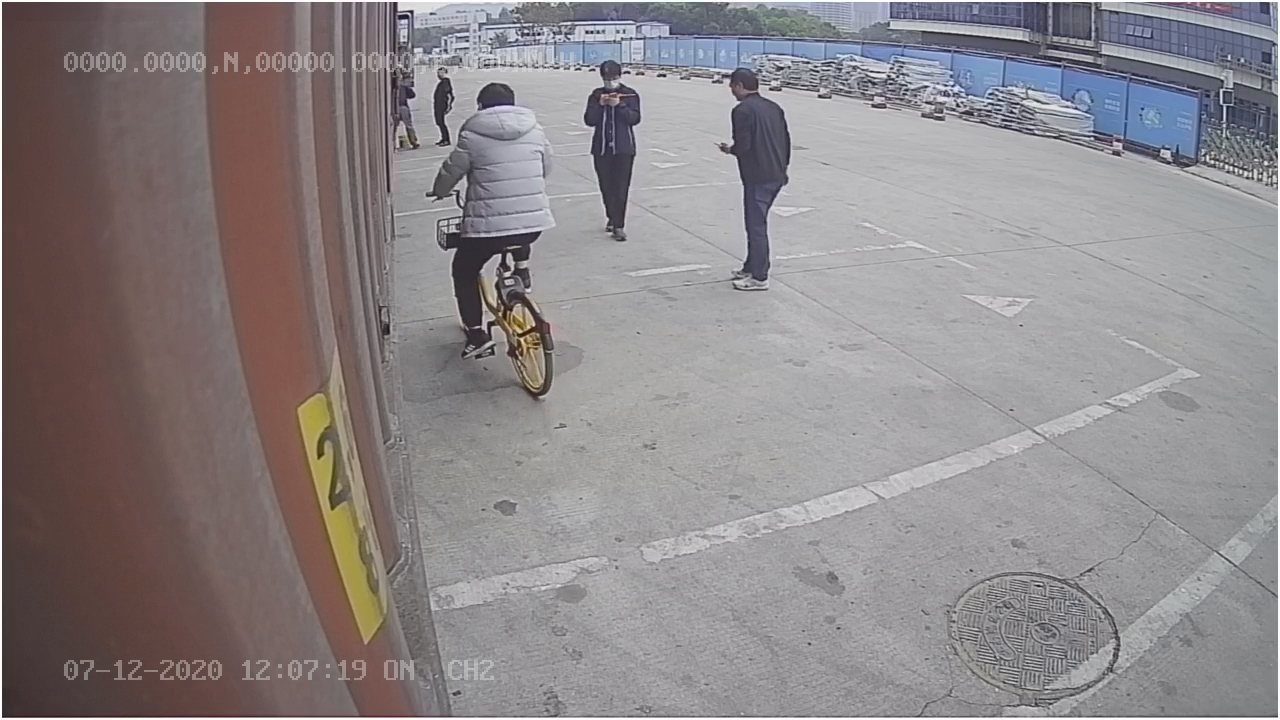person: (718, 57, 802, 295)
